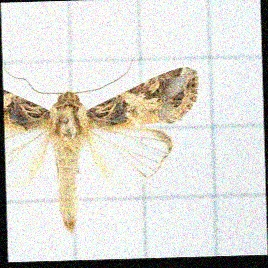Spodoptera litura: (4, 55, 200, 233)
